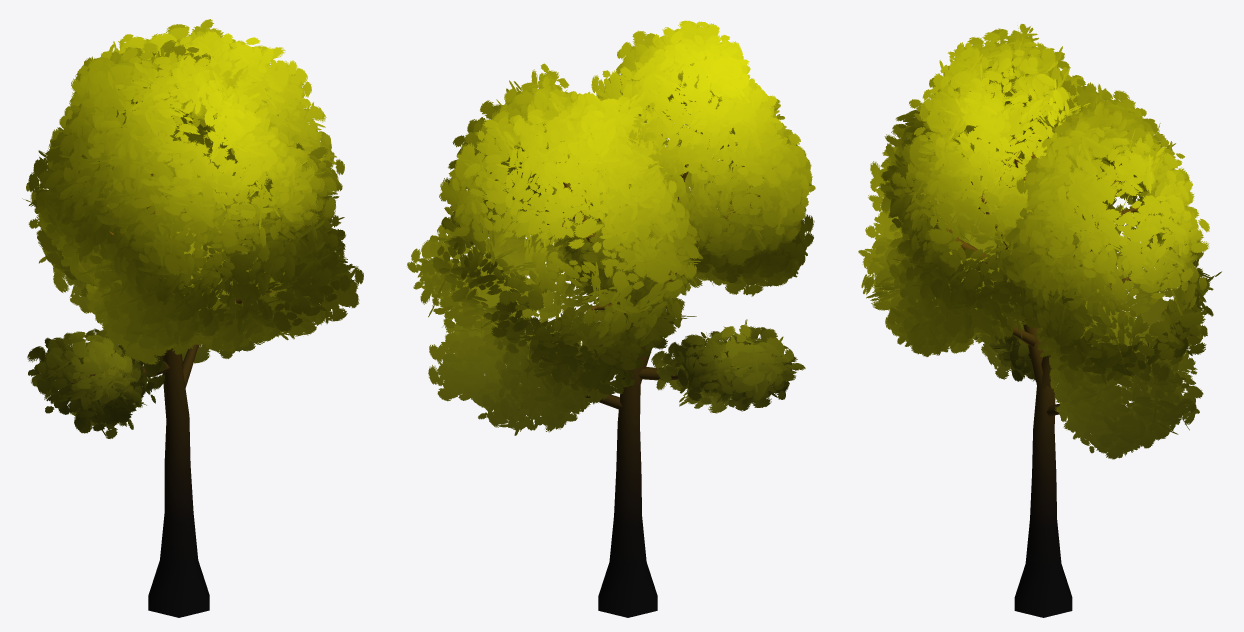
Rendered from SM_Tree_Large_01.fbx.
3 renders of one model, left to right at view 1: azimuth 30°, elevation 25°; view 2: azimuth 150°, elevation 25°; view 3: azimuth 270°, elevation 25°, orthographic. The views are drawn at different scales.
Visible parts, largest first — view 1: SM_Tree_Large_01_LOD0; view 2: SM_Tree_Large_01_LOD0; view 3: SM_Tree_Large_01_LOD0.
Boxes of the visible parts, x1,y1,x2,y2 form: SM_Tree_Large_01_LOD0: (22, 19, 363, 617); SM_Tree_Large_01_LOD0: (407, 20, 815, 617); SM_Tree_Large_01_LOD0: (858, 24, 1221, 617).
Bounding box in the file's own units: 996 × 1546 × 959.
